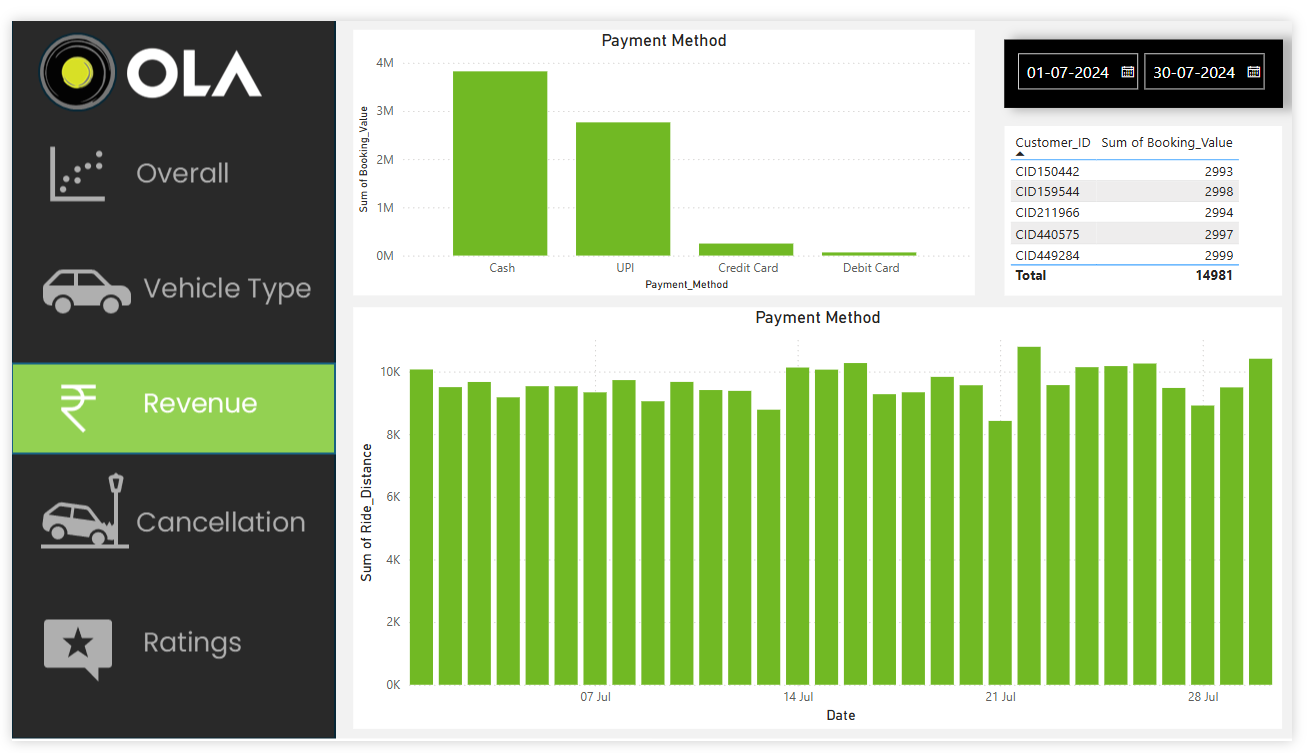

The dashboard page shown, as its layout file describes it:
{"tool":"powerbi","page":{"name":"Revenue","canvas":[1280,720],"ordinal":2},"visuals":[{"type":"actionButton","box":[1.3,446.8,325.3,89.9],"z":0},{"type":"actionButton","box":[0,574.7,325.3,89.9],"z":1000},{"type":"actionButton","box":[0,220.3,325.3,89.9],"z":2000},{"type":"actionButton","box":[0,105.1,325.3,89.9],"z":3000},{"type":"columnChart","title":"Payment Method","fields":{"Y":["Sum(July.Booking_Value)"],"Category":["July.Payment_Method"]},"box":[341.8,8.9,621.5,265.8],"z":4000},{"type":"columnChart","title":"Payment Method","fields":{"Y":["Sum(July.Ride_Distance)"],"Category":["July.Date"]},"box":[341.8,286.1,929.1,421.5],"z":5000},{"type":"slicer","title":"Date","fields":{"Values":["July.Date"]},"box":[992.4,19,278.5,68.4],"z":6000},{"type":"tableEx","fields":{"Values":["July.Customer_ID","Sum(July.Booking_Value)"]},"box":[992.4,105.1,277.2,169.6],"z":7000}]}

Visuals, with their boxes in screenshot pixels (x1, y1, x2, y2), scaled from the page's 1280x720 canvas onto the 1307x753 screenshot:
actionButton: rect(1, 467, 333, 561)
actionButton: rect(0, 601, 332, 695)
actionButton: rect(0, 230, 332, 324)
actionButton: rect(0, 110, 332, 204)
"Payment Method" columnChart: rect(349, 9, 984, 287)
"Payment Method" columnChart: rect(349, 299, 1298, 740)
"Date" slicer: rect(1013, 20, 1298, 91)
tableEx - July.Customer_ID x Sum(July.Booking_Value): rect(1013, 110, 1296, 287)
